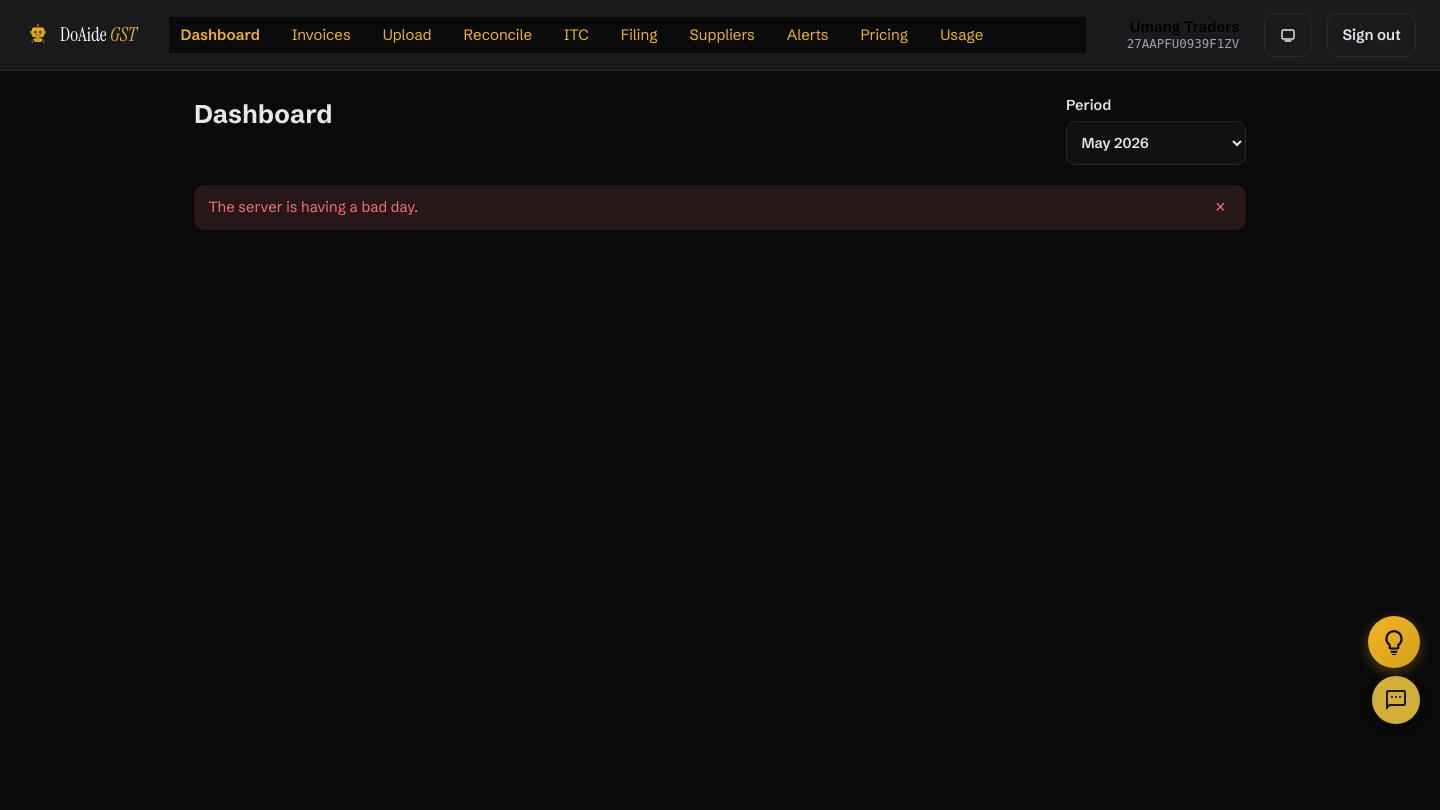
Test: dismissing the error a page reports › / lets the user close it
Click the button named "Dismiss" at (1220, 208), box [1209, 196, 1232, 219]
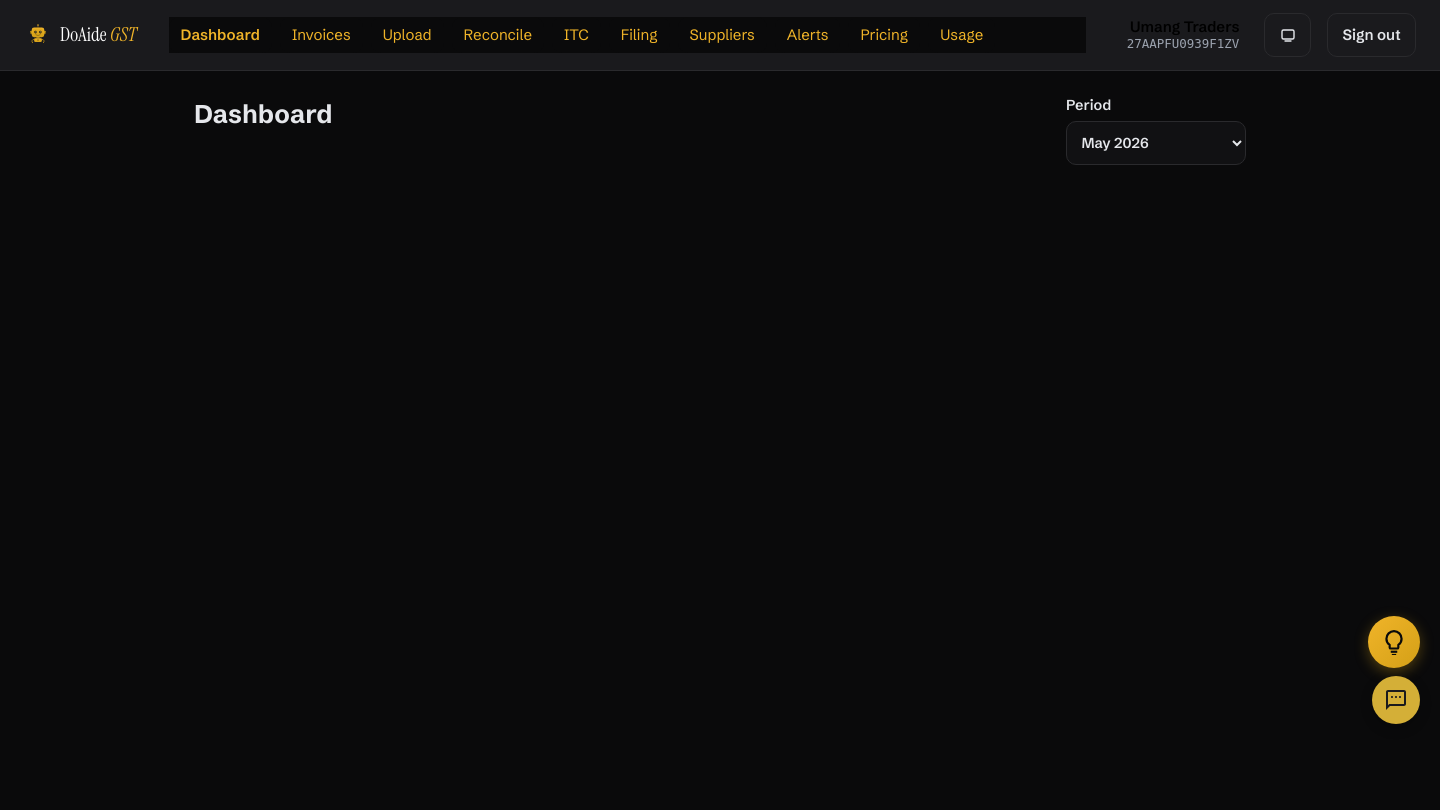
Check: the link "Dashboard" is shown, box [169, 17, 272, 53]
Check: the message "The server is having a bad day. ×" is gone
